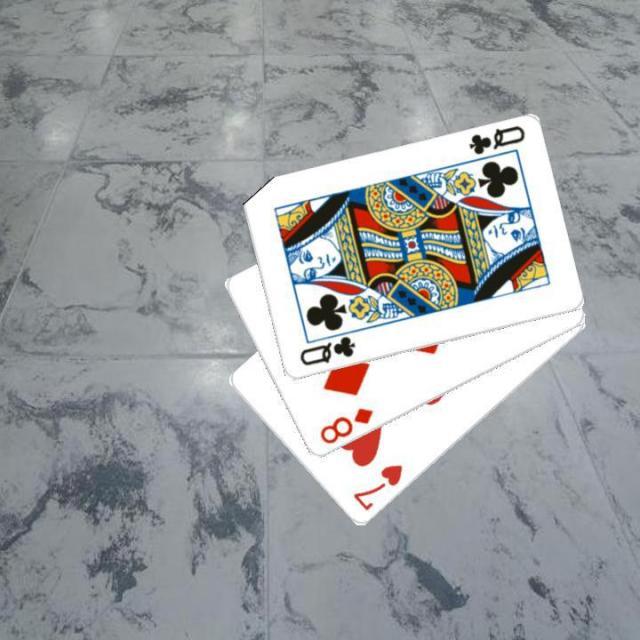7H: (348, 460, 404, 514)
8D: (316, 404, 375, 446)
QC: (295, 332, 357, 368), (465, 122, 527, 157)
